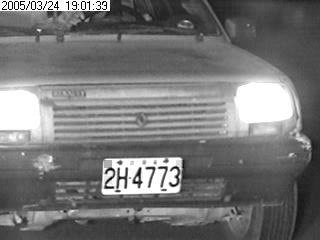plate: (101, 155, 181, 195)
